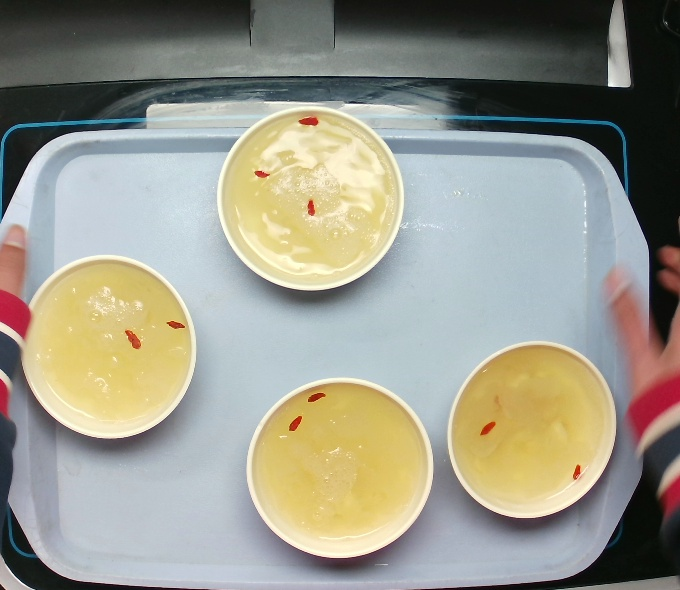wcq-YinErLianZiGeng: (200, 96, 417, 319), (238, 372, 439, 574), (18, 244, 204, 462), (438, 330, 626, 533)
